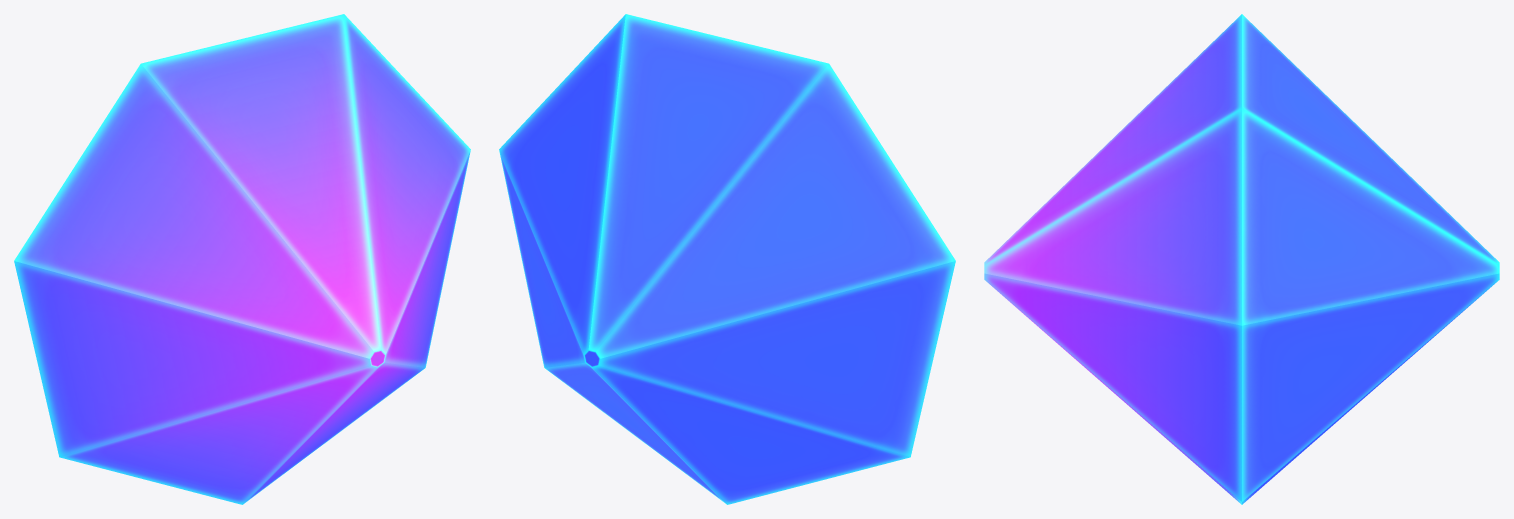
File: cristal.glb
3 views of the same model, side by side, from view 1: azimuth 30°, elevation 25°; view 2: azimuth 150°, elevation 25°; view 3: azimuth 270°, elevation 25° (orthographic). The views are drawn at different scales.
Visible parts, largest first — view 1: Stone5; view 2: Stone5; view 3: Stone5.
Boxes of the visible parts, x1,y1,x2,y2 form: Stone5: (14,14,470,504); Stone5: (499,14,955,504); Stone5: (984,14,1499,504).
Size of the model in its own units: 1.28 by 1.25 by 1.31.
1 material, 1 textured.
